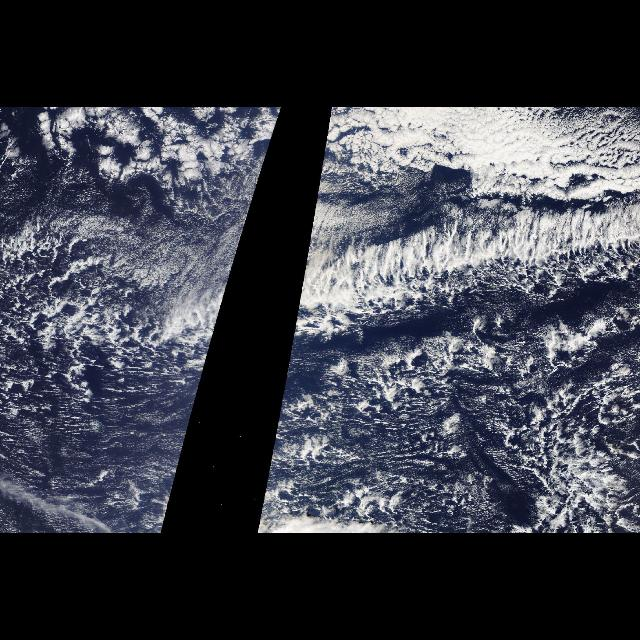Fish: (288, 193, 640, 365), (157, 193, 256, 365)
Gravel: (358, 352, 640, 534), (0, 248, 152, 450)
Sugar: (98, 196, 256, 284), (306, 198, 384, 268)
